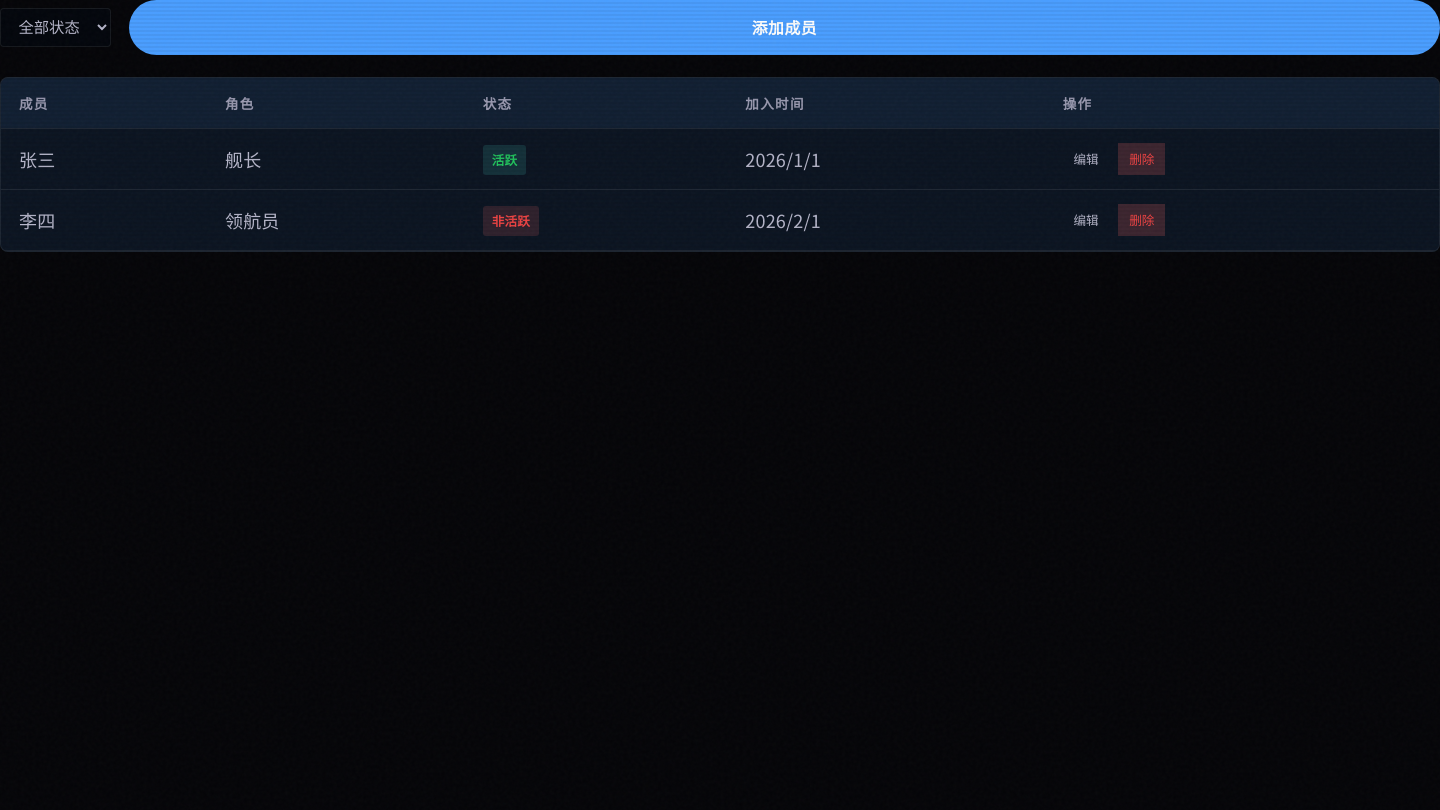
Test case: MembersAdmin 视图 › 保存失败应显示错误信息且弹窗不关闭
Click the button "添加成员" at (784, 27), box [129,0,1439,54]
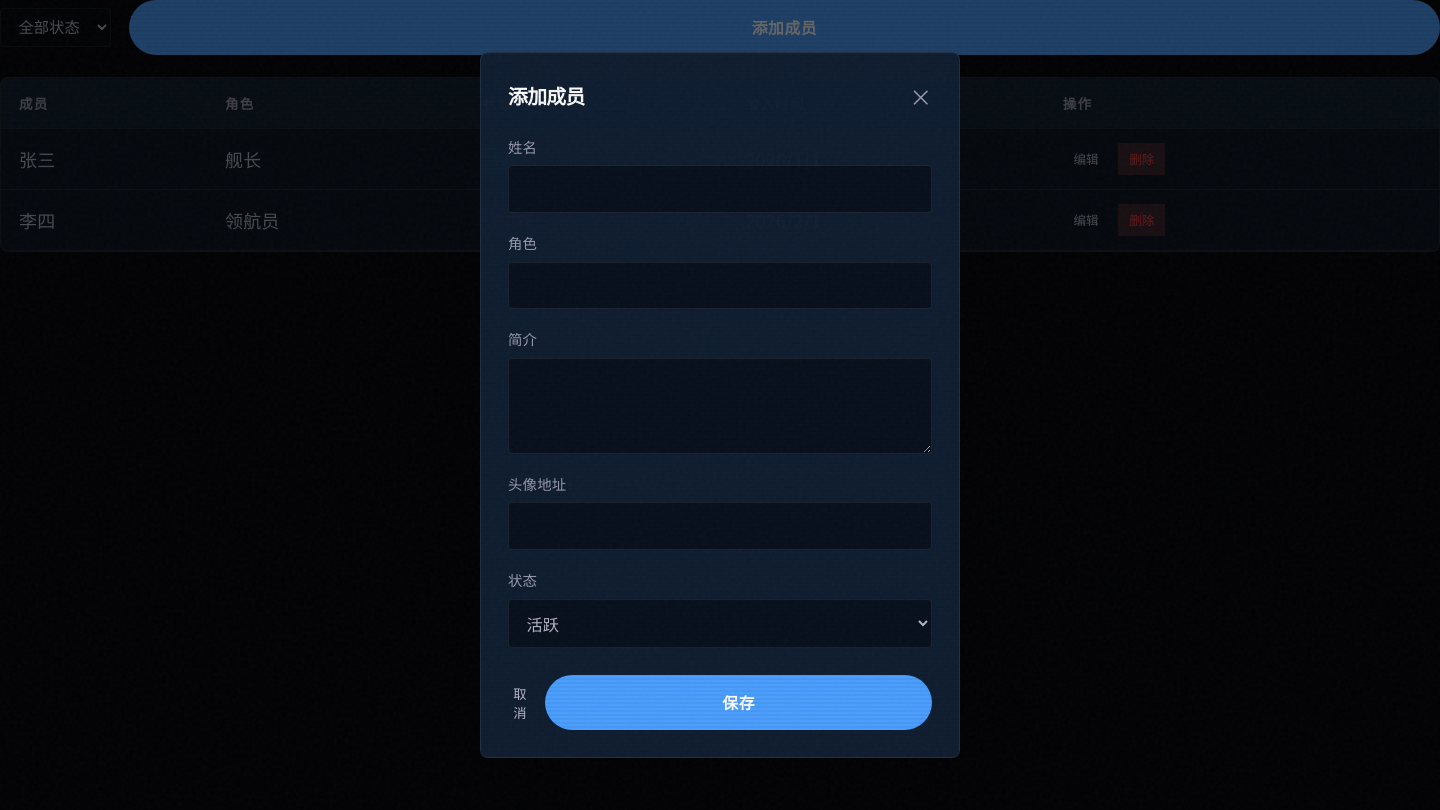
Submit the form, box [508,135,932,730]
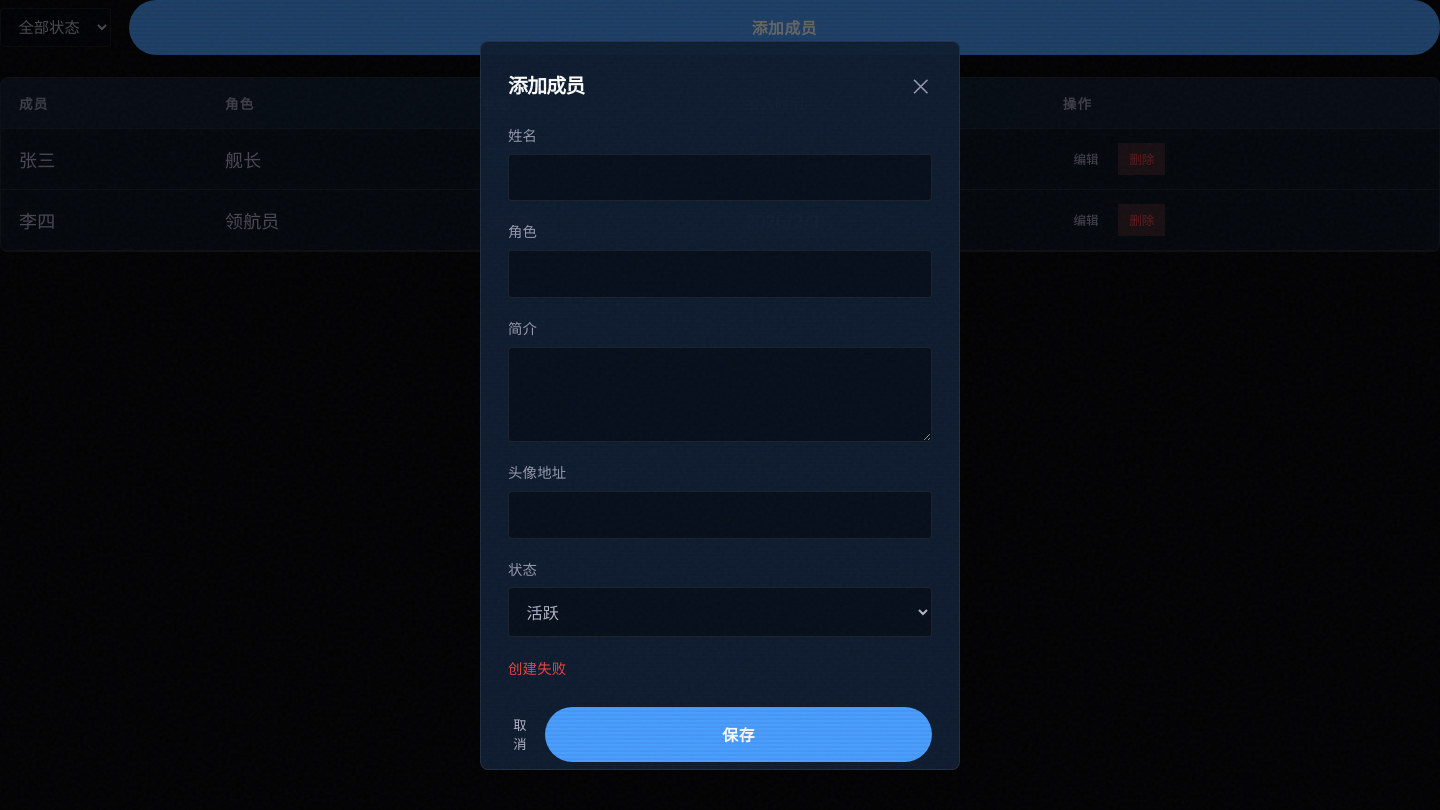
Expected: the element with class "modal-overlay" is shown
Expected: the text "创建失败" is shown, [508,657,566,678]
